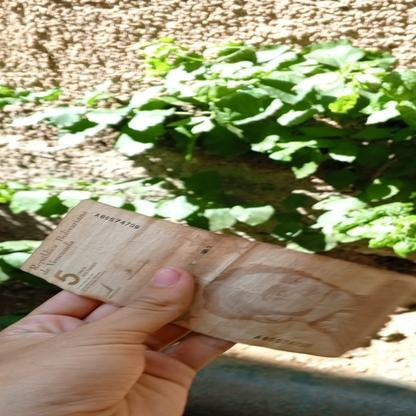five-front-vef: (19, 198, 416, 356)
